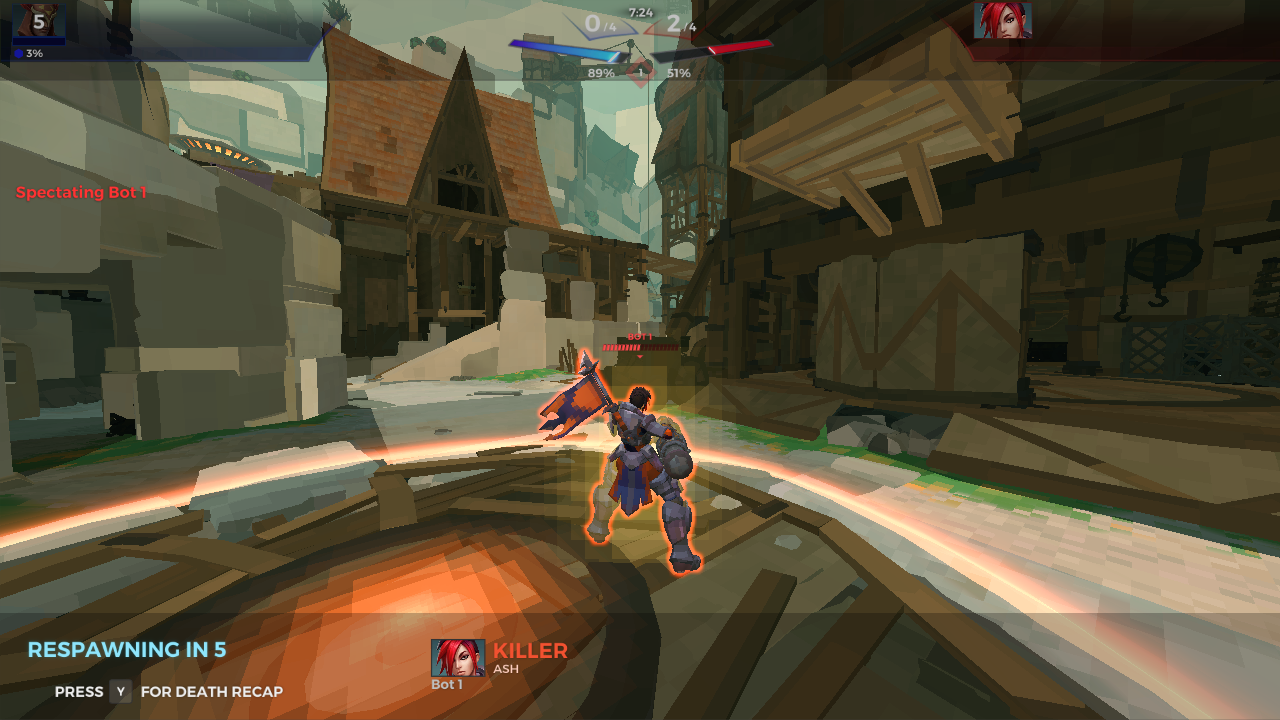model: (576, 384, 711, 575)
